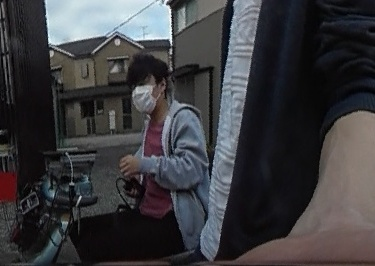person: (107, 53, 210, 266)
